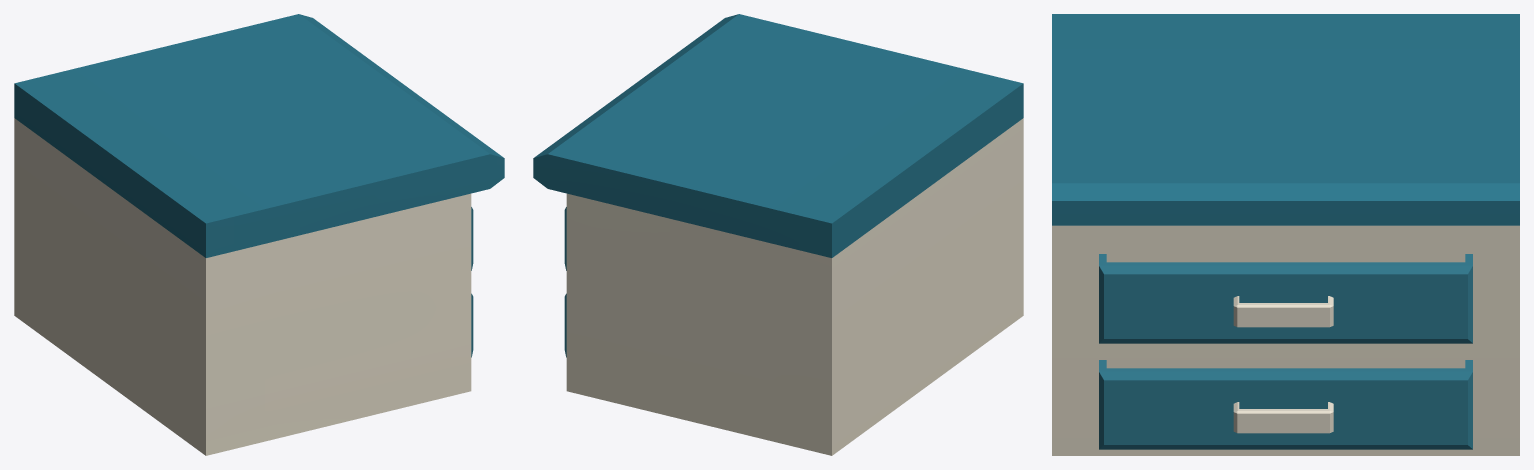
File: Cabinet2.glb
The picture shows the model from 3 angles, left to right: view 1: azimuth 30°, elevation 25°; view 2: azimuth 150°, elevation 25°; view 3: azimuth 270°, elevation 25°; orthographic projection. The views are drawn at different scales.
Visible parts, largest first — view 1: Cabinet2; view 2: Cabinet2; view 3: Cabinet2.
Part boxes in pixels (x1,y1,x2,y2): Cabinet2: [14, 14, 504, 455]; Cabinet2: [533, 14, 1023, 455]; Cabinet2: [1052, 14, 1519, 455].
Bounding box in the file's own units: 0.92 × 0.6696 × 1.
Materials: 1 (1 with a texture image).
